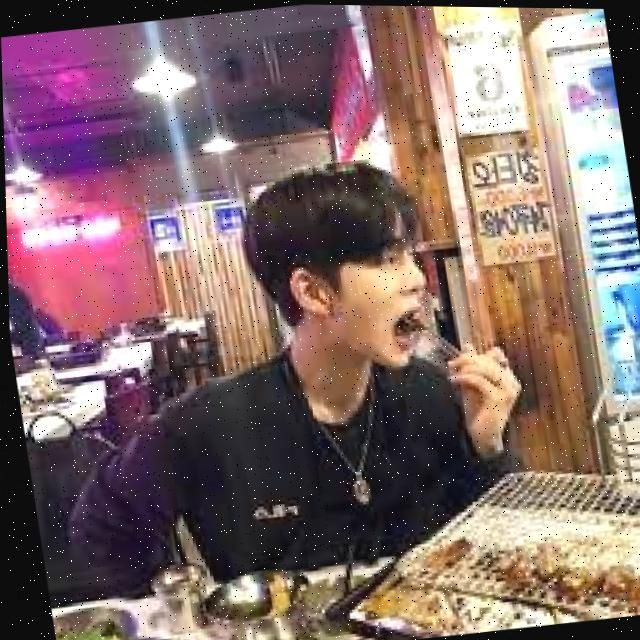eating-person: (3, 117, 571, 625)
